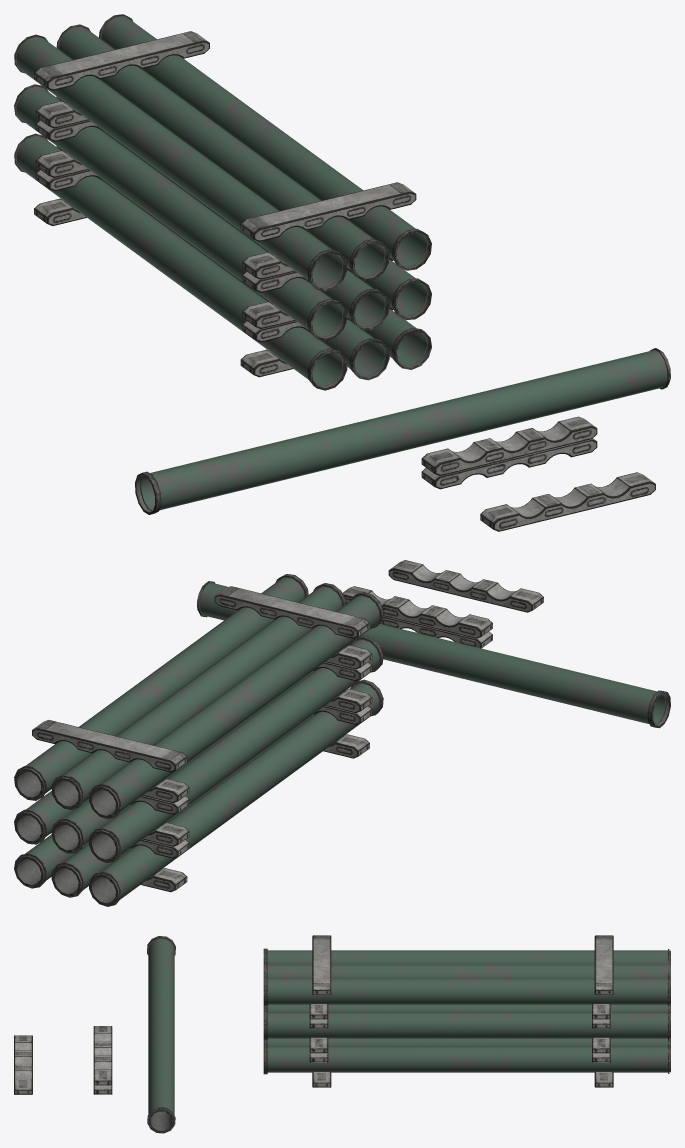
The model's file is pipe_workshop_industrial_piping.glb.
3 renders of one model, top to bottom at view 1: azimuth 30°, elevation 25°; view 2: azimuth 150°, elevation 25°; view 3: azimuth 270°, elevation 25°, orthographic. The views are drawn at different scales.
Parts seen in each view (by area): view 1: 01_all_0, 02_all_0, 04_all_0, 03_all_0; view 2: 01_all_0, 02_all_0, 04_all_0, 03_all_0; view 3: 01_all_0, 02_all_0, 04_all_0, 03_all_0.
Part boxes in pixels (x1=…): 01_all_0: x1=14, y1=14, x2=431, y2=390; 02_all_0: x1=135, y1=348, x2=670, y2=514; 04_all_0: x1=421, y1=416, x2=597, y2=489; 03_all_0: x1=480, y1=472, x2=655, y2=531; 01_all_0: x1=14, y1=574, x2=383, y2=906; 02_all_0: x1=197, y1=581, x2=670, y2=728; 04_all_0: x1=342, y1=586, x2=492, y2=648; 03_all_0: x1=388, y1=560, x2=543, y2=612; 01_all_0: x1=263, y1=935, x2=670, y2=1087; 02_all_0: x1=147, y1=936, x2=175, y2=1133; 04_all_0: x1=93, y1=1026, x2=112, y2=1094; 03_all_0: x1=14, y1=1035, x2=32, y2=1094.
Bounding box in the file's own units: 3.05 × 0.8406 × 4.92.
Materials: 1 (1 with a texture image).
